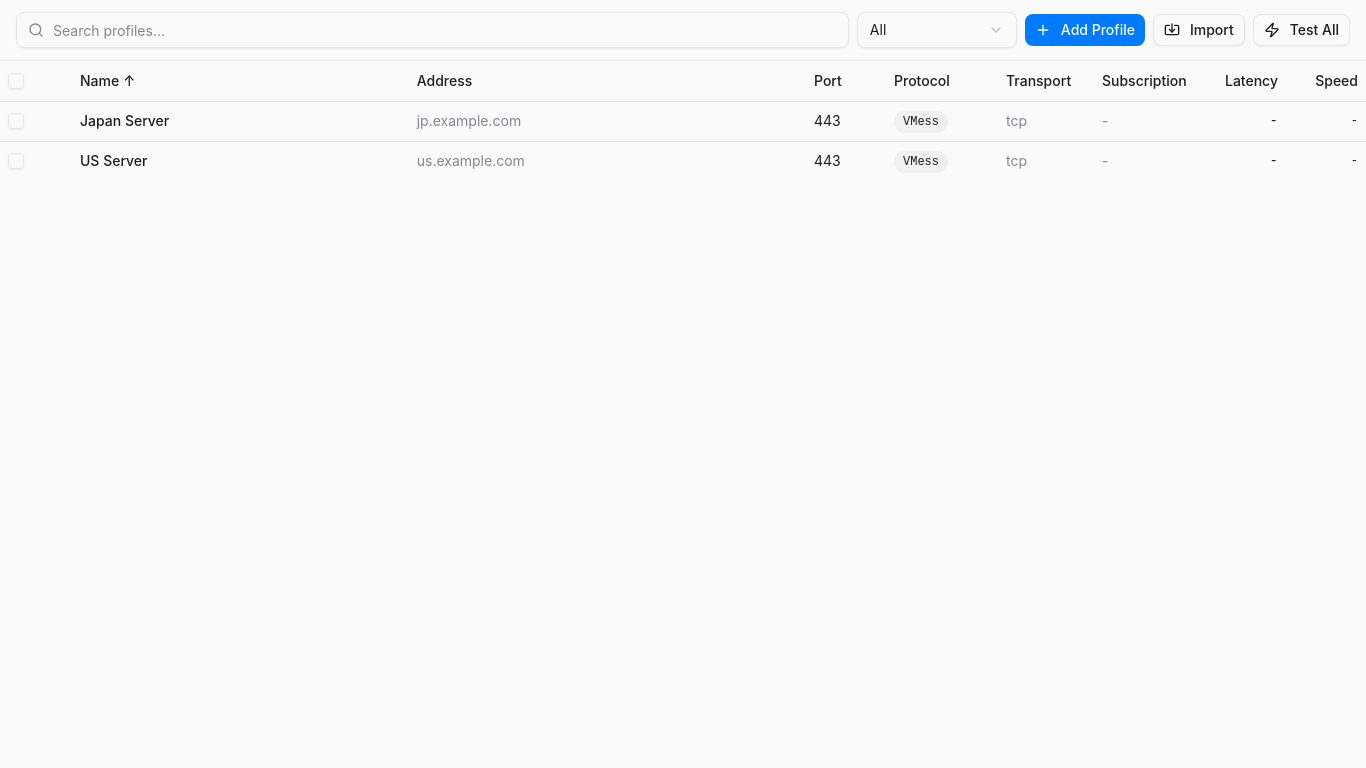
Test: ProfilesPage › opens import dialog when clicking Import button
The width and height of the screenshot is (1366, 768).
Click the button "Import".
click(1199, 30)  # box [1153, 14, 1245, 46]
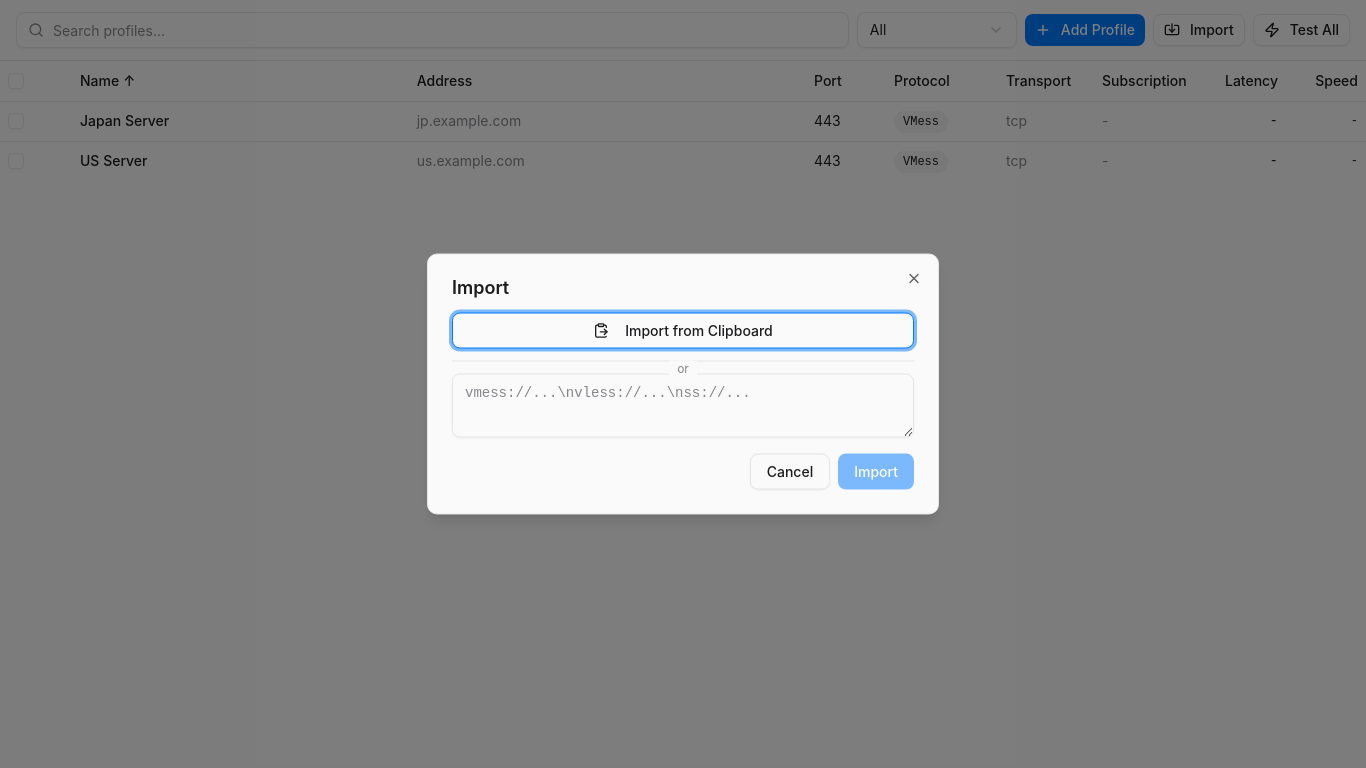
Now the dialog is shown, box [427, 254, 939, 514]
